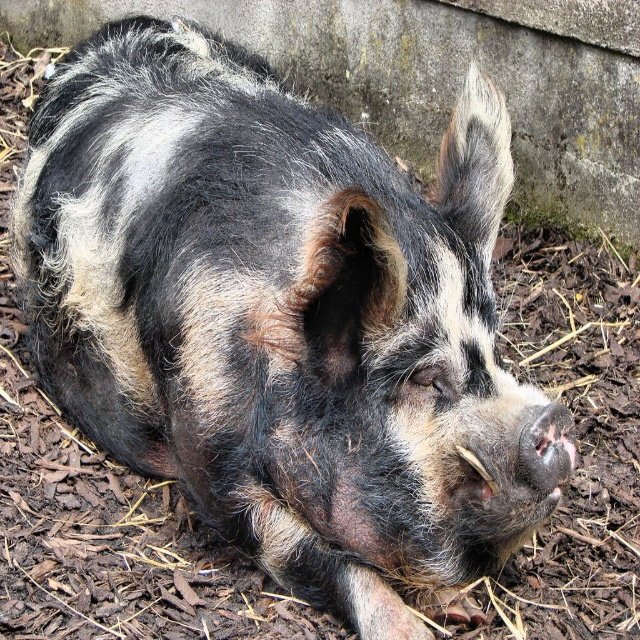Pig: (4, 9, 580, 640)
